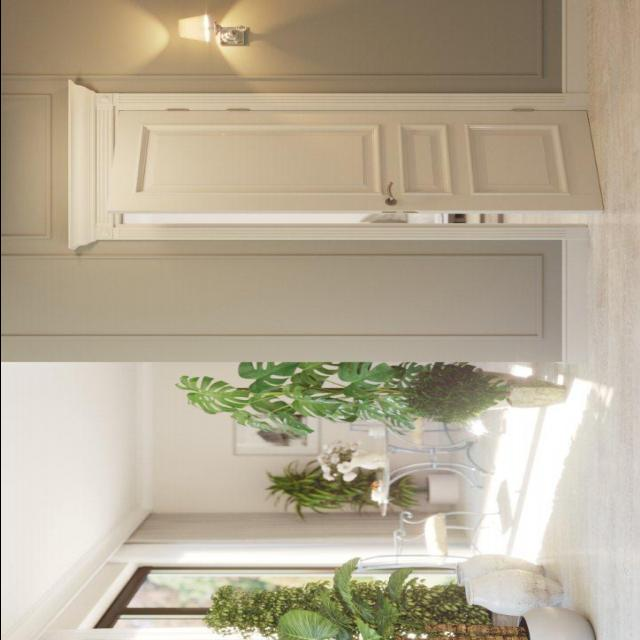open: (105, 96, 603, 236)
